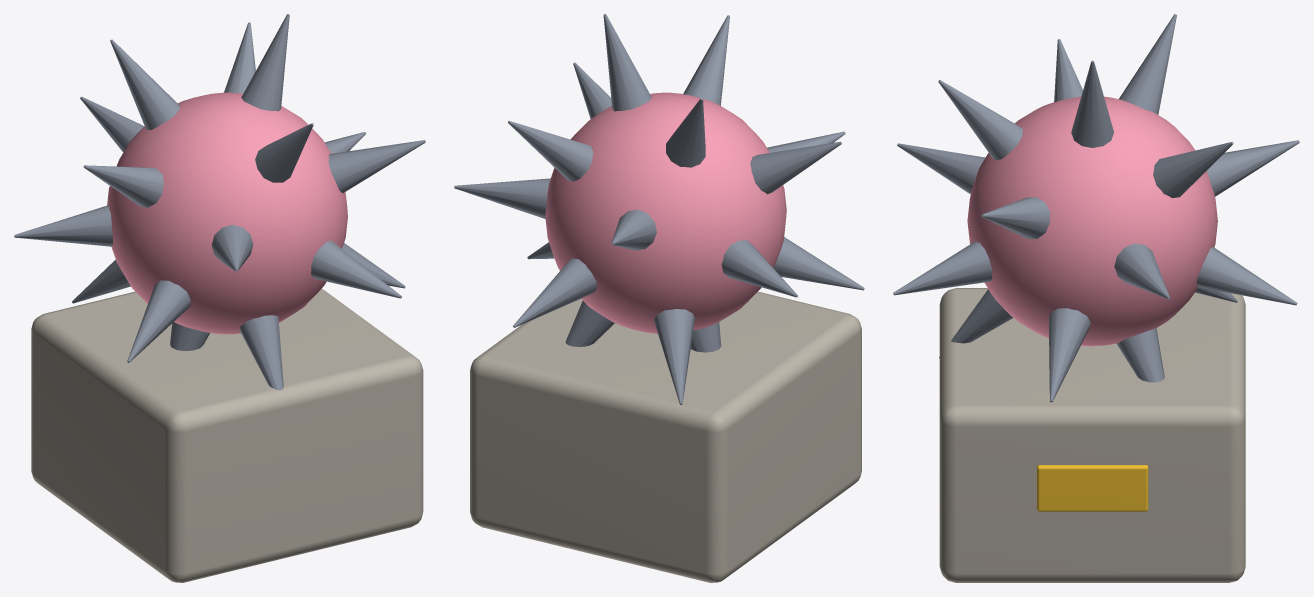
Rendered from spiky.glb.
3 renders of one model, left to right at view 1: azimuth 30°, elevation 25°; view 2: azimuth 150°, elevation 25°; view 3: azimuth 270°, elevation 25°, orthographic. The views are drawn at different scales.
Parts seen in each view (by area): view 1: spiky; view 2: spiky; view 3: spiky.
Boxes of the visible parts, box(x1,y1,x2,y2) form: spiky: box(14, 14, 425, 582); spiky: box(454, 14, 864, 582); spiky: box(893, 14, 1299, 582).
Bounding box in the file's own units: 1.49 × 1.96 × 1.46.
1 material, 1 textured.
